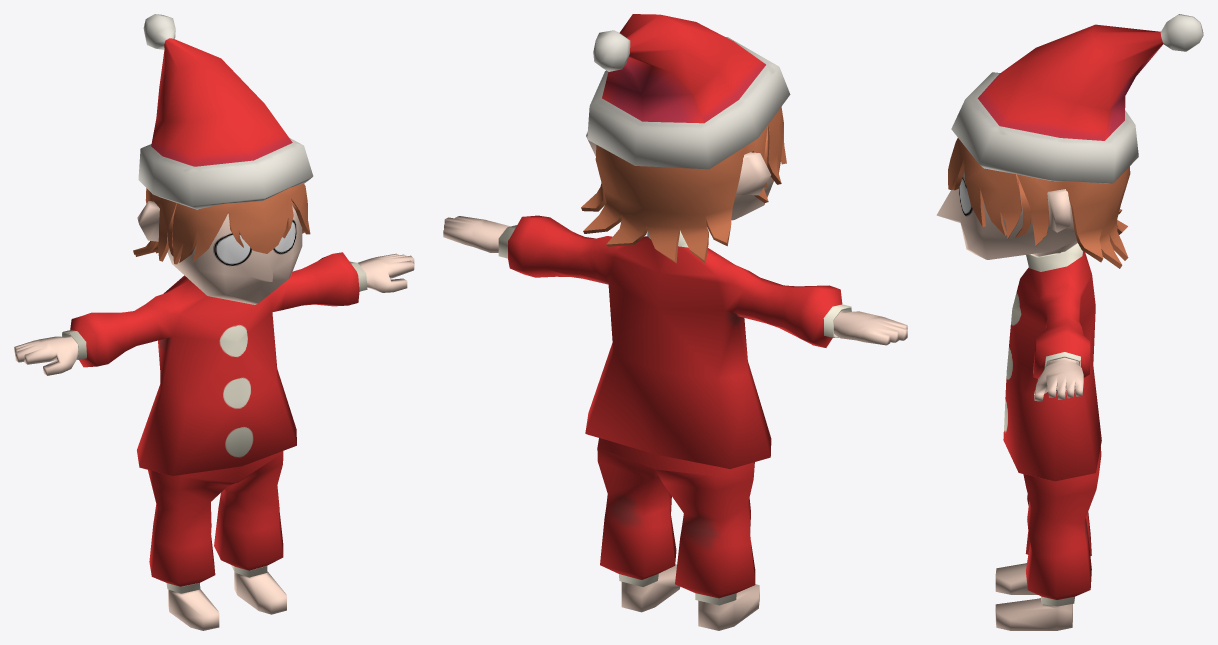
Rendered from fairy.FBX.
3 views of the same model, side by side, from view 1: azimuth 30°, elevation 25°; view 2: azimuth 150°, elevation 25°; view 3: azimuth 270°, elevation 25° (orthographic). The views are drawn at different scales.
Visible parts, largest first — view 1: Box001, cap, kami; view 2: Box001, cap, kami; view 3: Box001, cap, kami.
Boxes of the visible parts, x1,y1,x2,y2 form: Box001: (14,201,414,630); cap: (138,14,313,209); kami: (133,183,310,264); Box001: (443,131,907,630); cap: (587,14,790,169); kami: (581,107,786,263); Box001: (936,171,1101,630); cap: (951,14,1203,183); kami: (948,138,1130,268).
Bounding box in the file's own units: 99.69 × 131 × 53.63.
